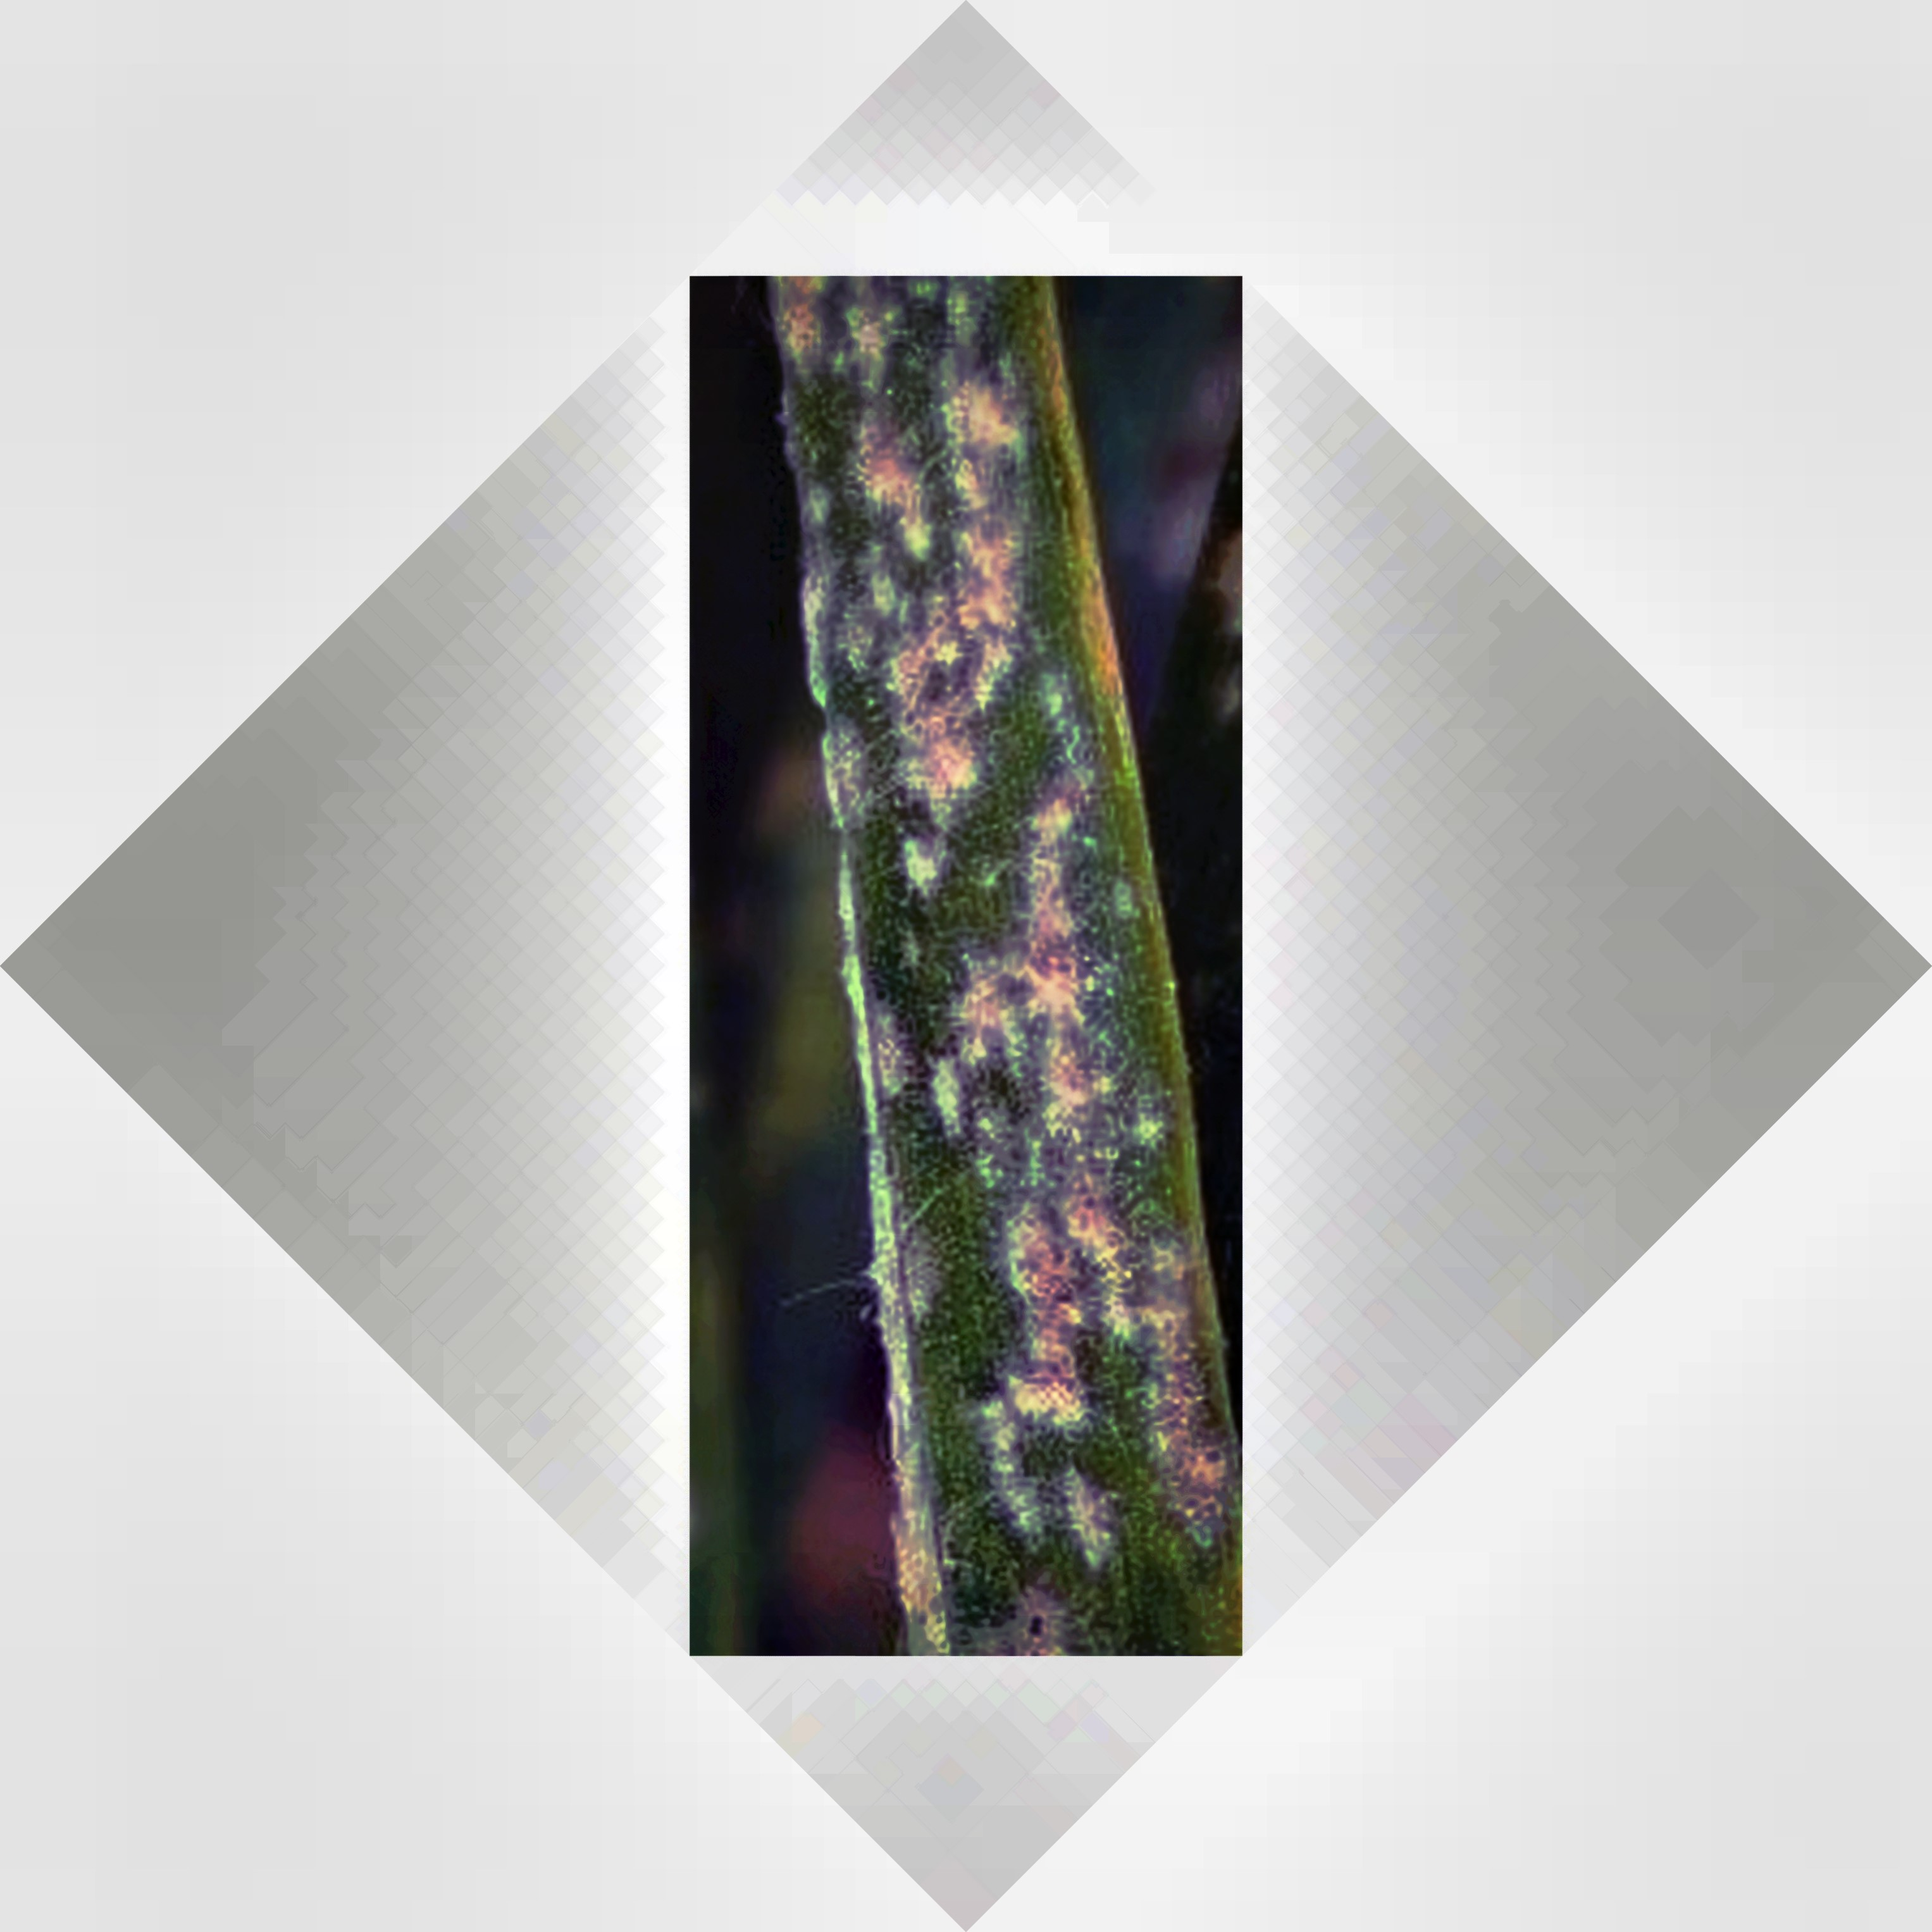Powdery Mildew: (786, 439, 1226, 1520)
